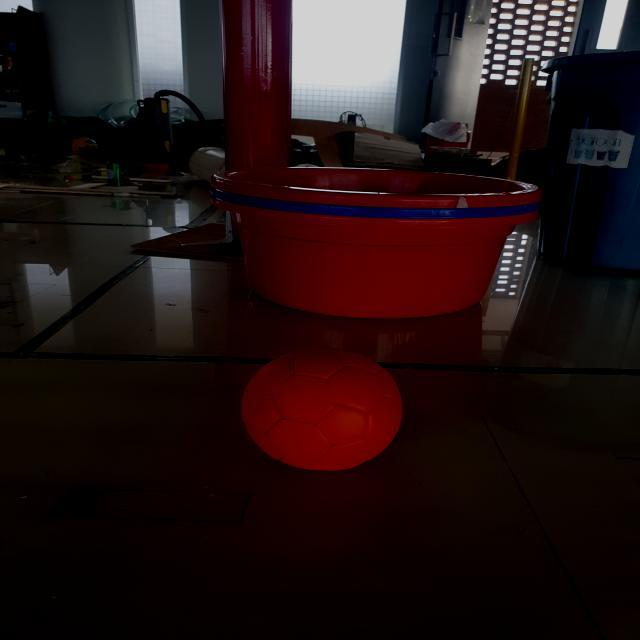bola: (226, 341, 414, 477)
